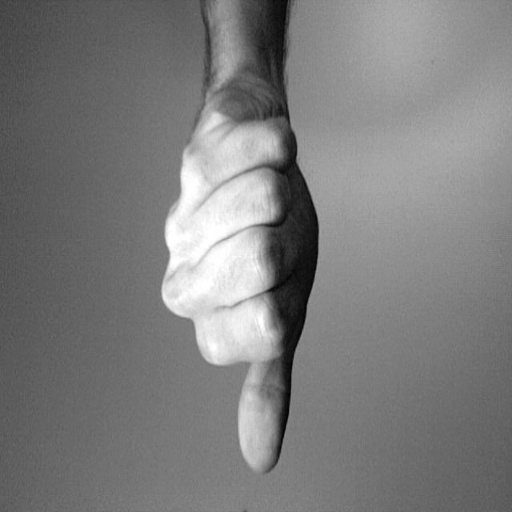hand: (160, 86, 320, 473)
